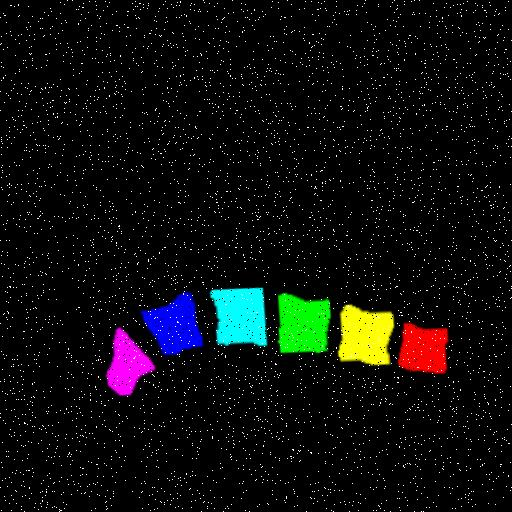L1: (403, 314, 450, 364)
L2: (342, 297, 397, 357)
L3: (281, 287, 334, 347)
L4: (215, 282, 271, 340)
L5: (146, 289, 207, 351)
S1: (111, 326, 158, 393)
